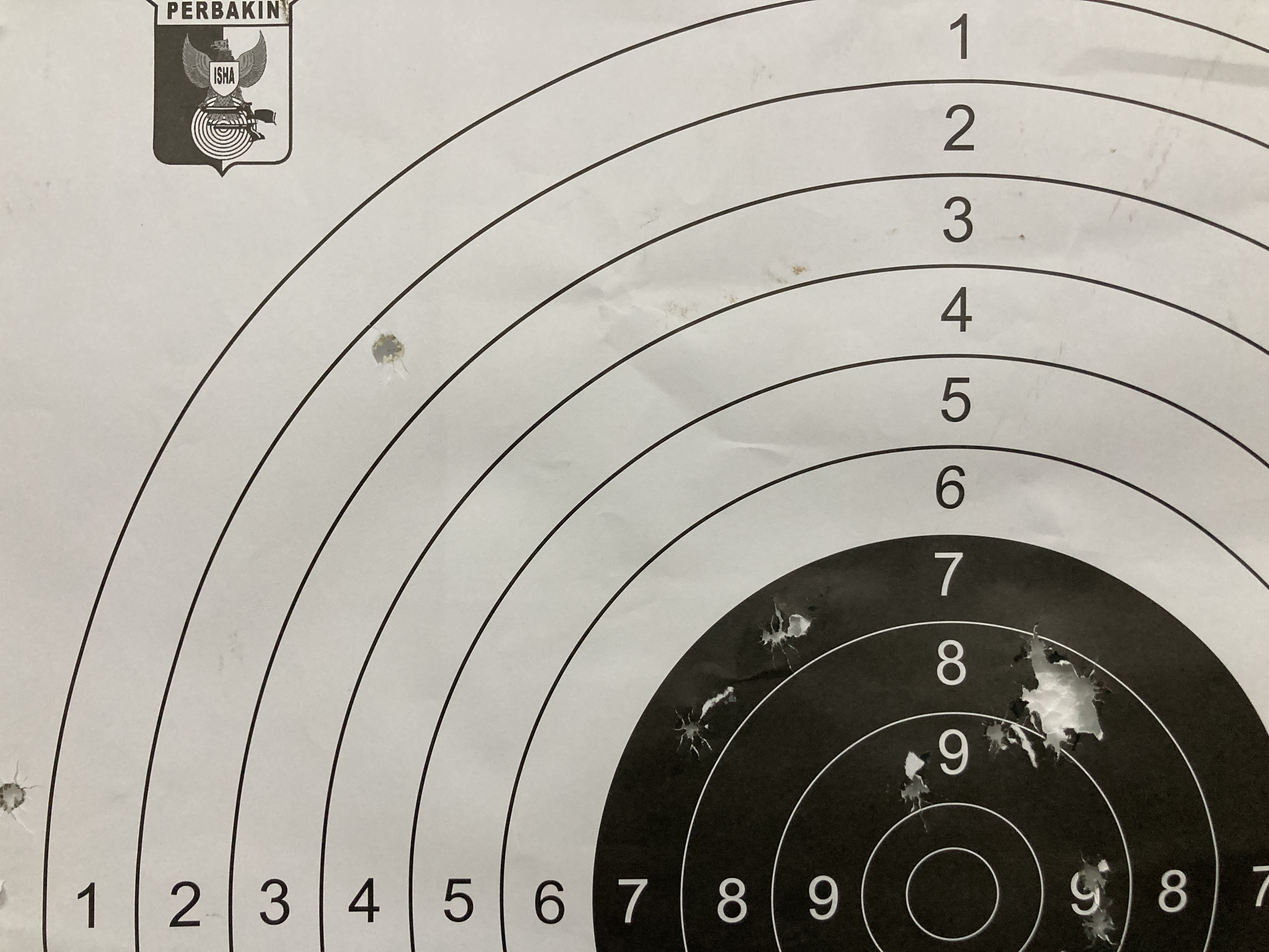hole: (1007, 612, 1129, 758), (749, 600, 830, 665), (663, 701, 729, 766), (969, 703, 1031, 766), (887, 761, 950, 821), (354, 328, 423, 380), (1071, 852, 1124, 904), (1074, 904, 1129, 943), (0, 773, 36, 823)
